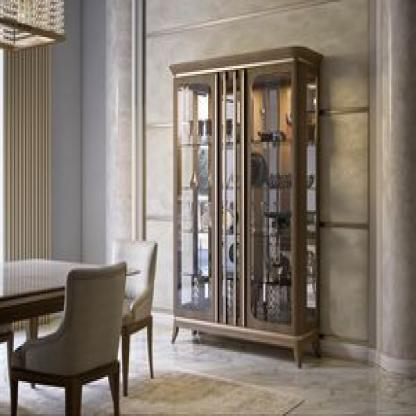Cupboard: (171, 45, 326, 369)
